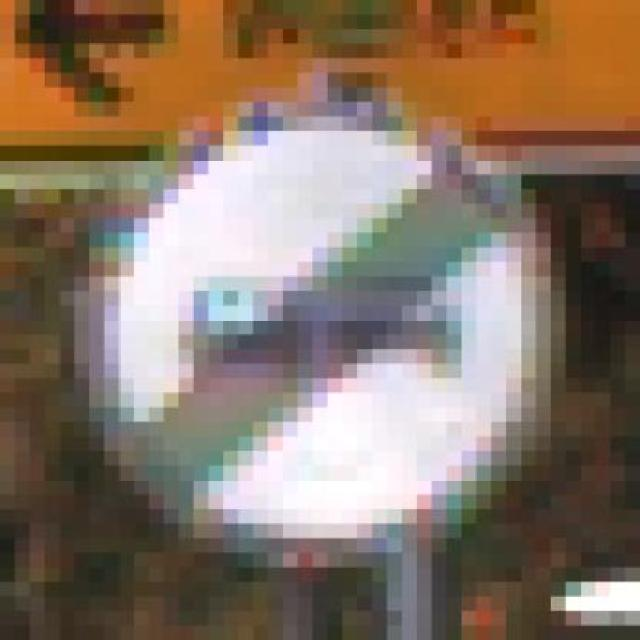No_Over_Taking: (44, 59, 596, 568)
